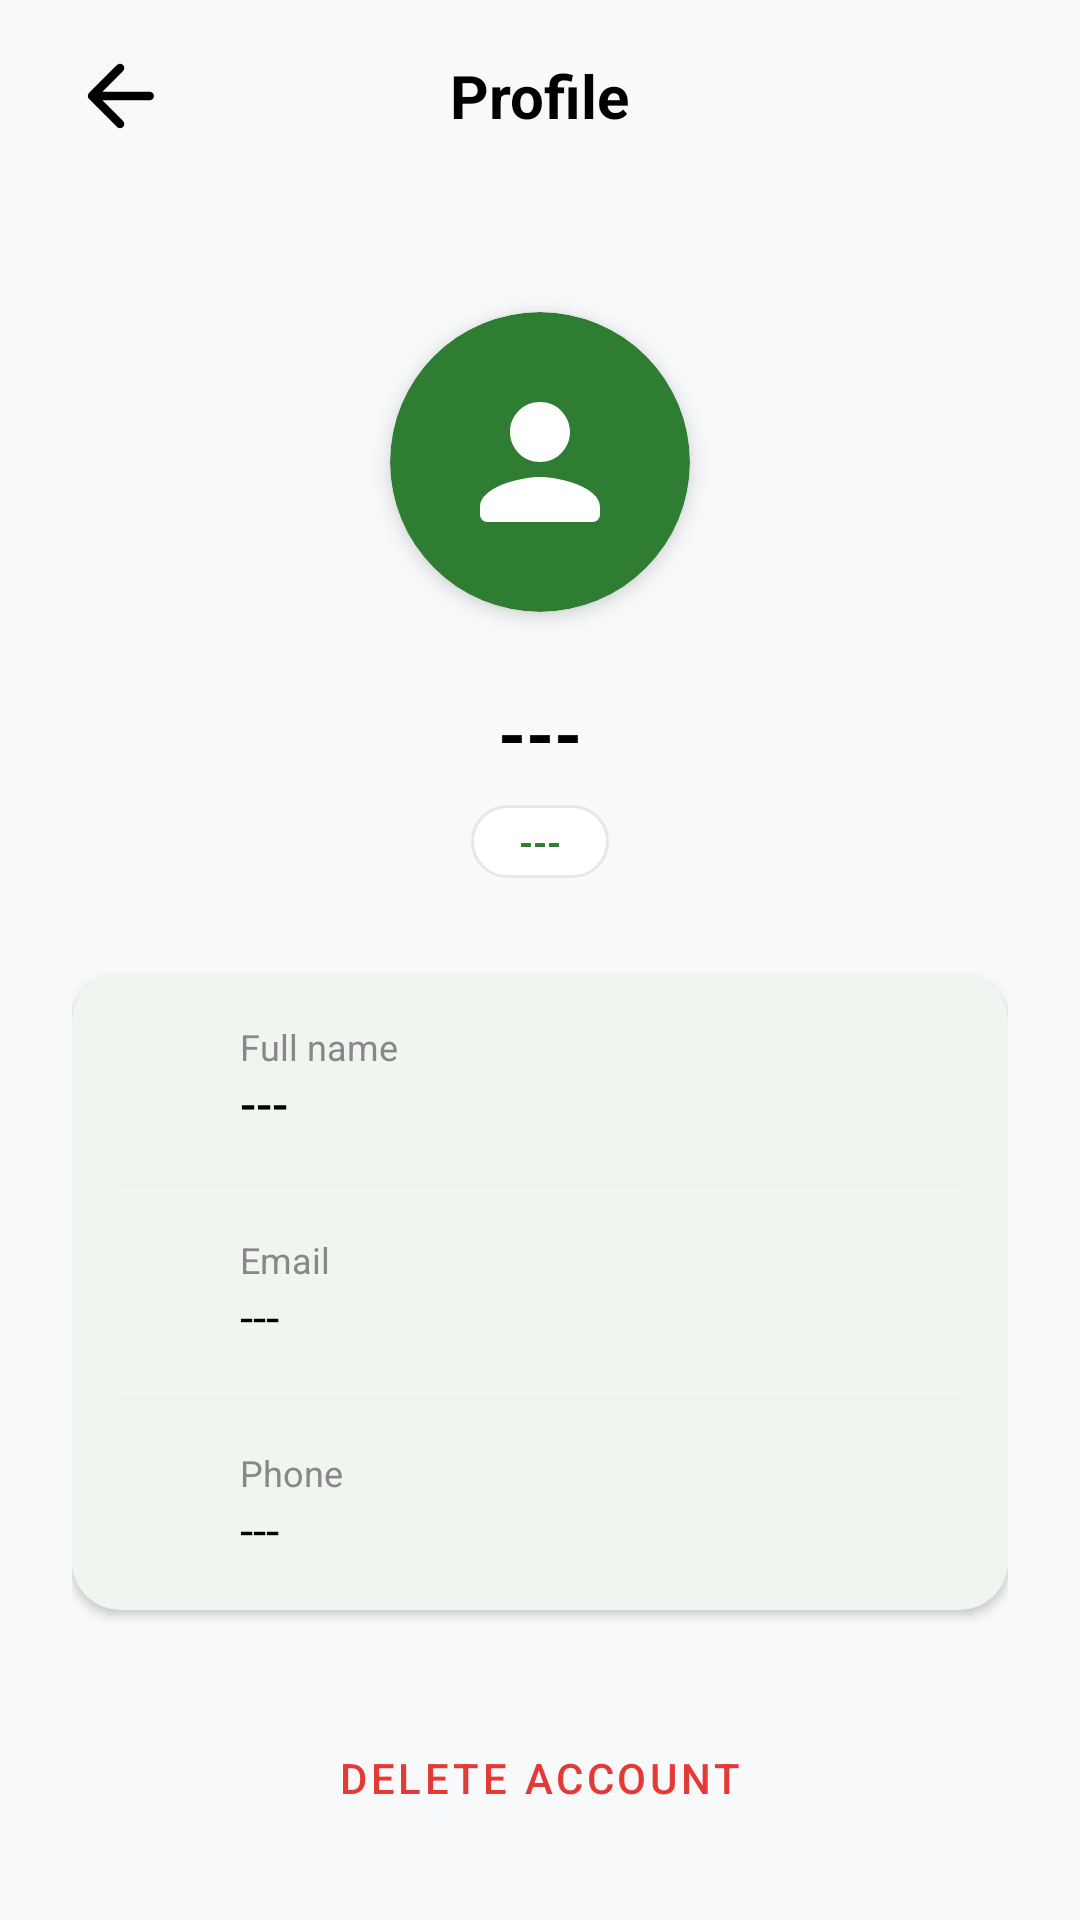

Where icons sit on this 1080 x 1920 app screen, as (x1, y1, x2, y2):
back: (87, 63, 154, 129)
person: (480, 402, 600, 522)
